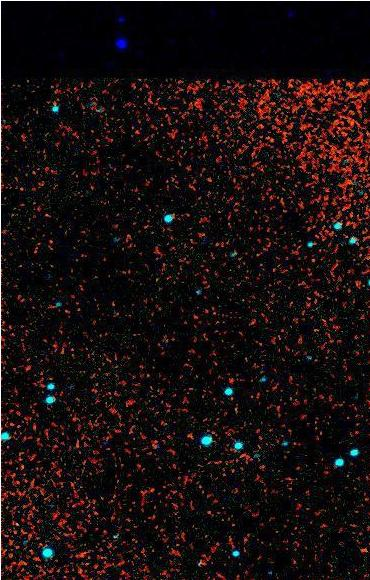star: (351, 538, 370, 568)
